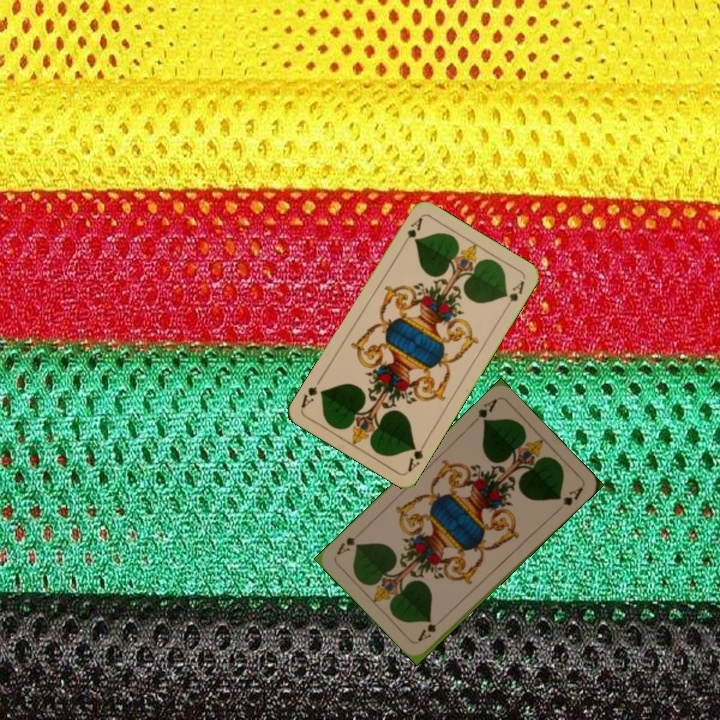GA: (413, 613, 447, 644), (403, 437, 429, 475), (398, 213, 425, 249), (473, 395, 499, 426)
